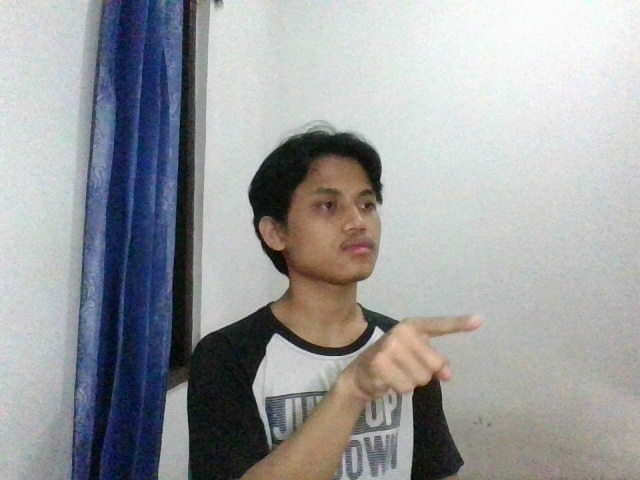You: (328, 306, 496, 420)
